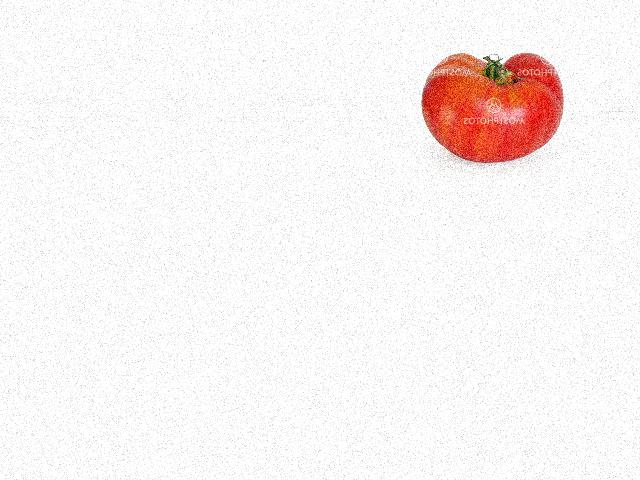tomato: (421, 52, 562, 162)
